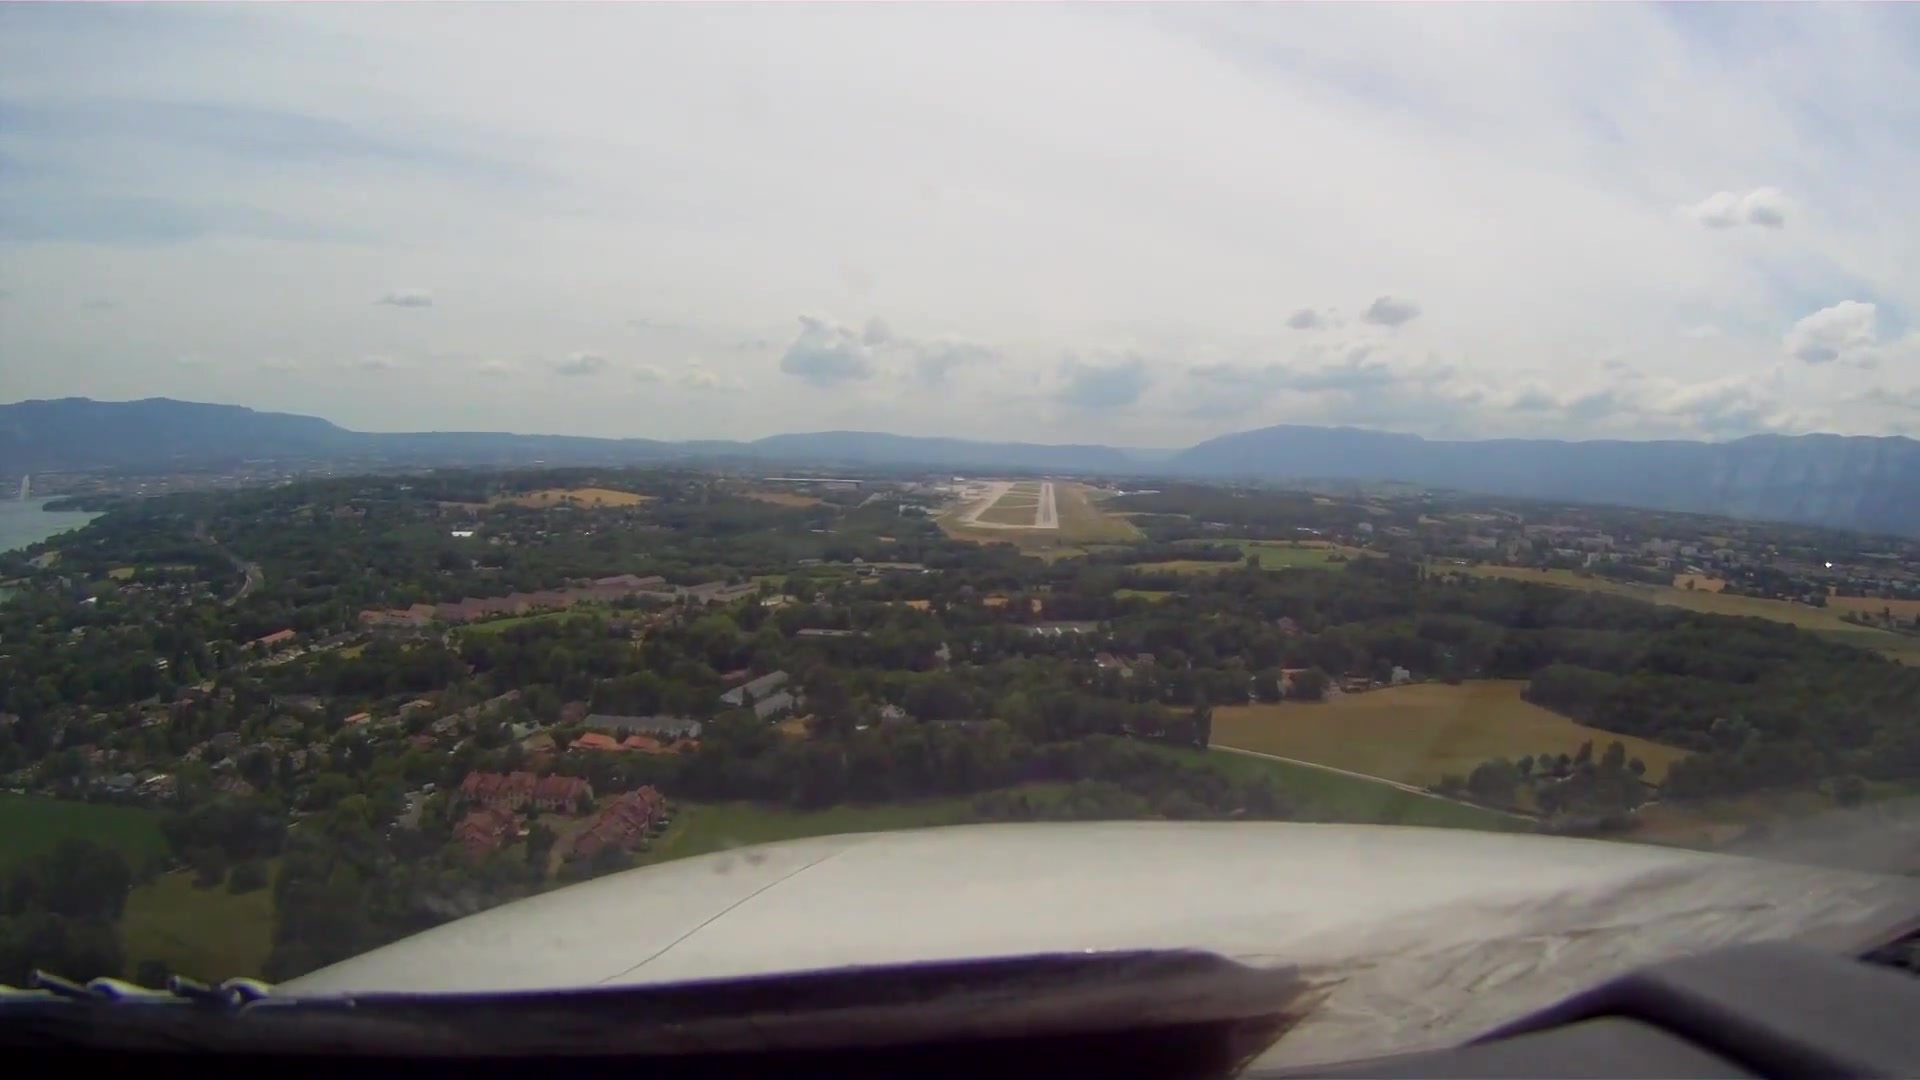runway: (1033, 481, 1062, 530)
